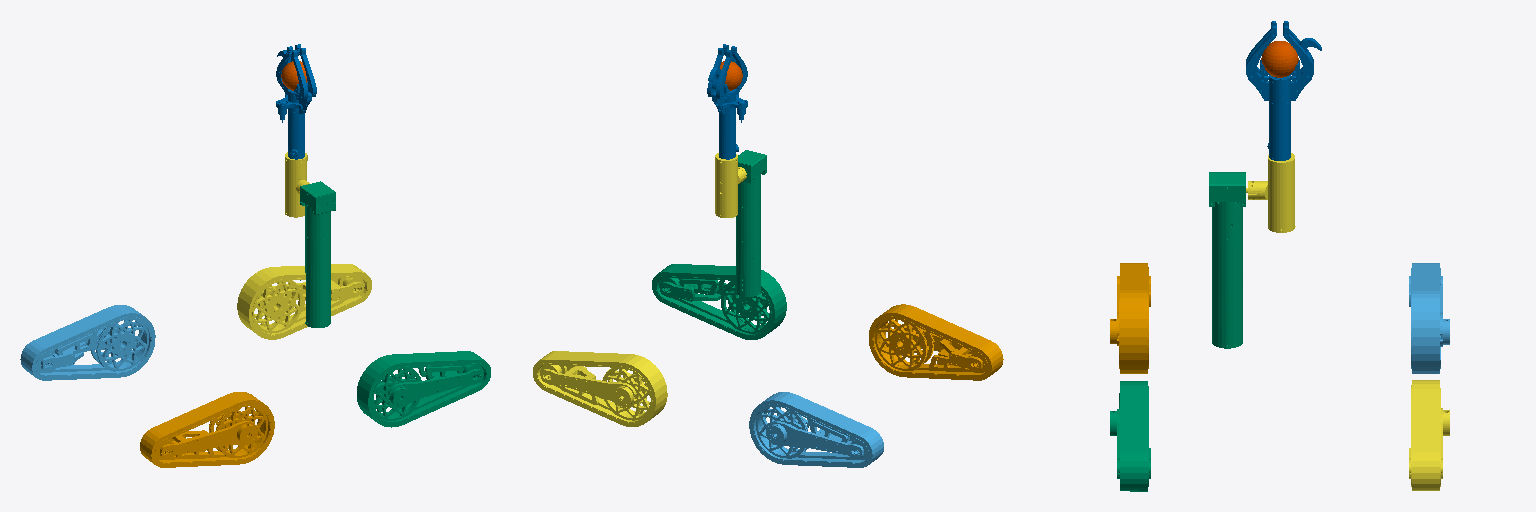
--- What the picture shows (computed from the rendered views, not written in the file) ---
Views: 3 orthographic renders of the robot side by side, from view 1: azimuth 30°, elevation 25°; view 2: azimuth 150°, elevation 25°; view 3: azimuth 270°, elevation 25°.
Model jaguar with 18 links and 17 joints (6 revolute, 11 fixed), rooted at base_link, posed all joints at 0.
Visible links, largest first — view 1: right_front_arm, right_rear_arm, left_rear_arm, left_front_arm, arm_1, arm_3, arm_2; view 2: right_rear_arm, left_rear_arm, left_front_arm, right_front_arm, arm_1, arm_3, arm_2; view 3: arm_1, arm_3, left_rear_arm, left_front_arm, right_rear_arm, right_front_arm, arm_2, ball.
Boxes of the visible links, x1=… form: right_front_arm: x1=357, y1=351, x2=490, y2=427; right_rear_arm: x1=140, y1=392, x2=274, y2=467; left_rear_arm: x1=20, y1=305, x2=155, y2=380; left_front_arm: x1=237, y1=264, x2=371, y2=339; arm_1: x1=300, y1=181, x2=335, y2=327; arm_3: x1=276, y1=44, x2=316, y2=159; arm_2: x1=285, y1=152, x2=309, y2=217; right_rear_arm: x1=869, y1=304, x2=1003, y2=380; left_rear_arm: x1=749, y1=392, x2=883, y2=467; left_front_arm: x1=533, y1=351, x2=667, y2=426; right_front_arm: x1=652, y1=264, x2=786, y2=339; arm_1: x1=736, y1=150, x2=766, y2=296; arm_3: x1=707, y1=44, x2=747, y2=159; arm_2: x1=715, y1=153, x2=746, y2=217; arm_1: x1=1209, y1=172, x2=1245, y2=348; arm_3: x1=1246, y1=21, x2=1321, y2=160; left_rear_arm: x1=1409, y1=263, x2=1449, y2=373; left_front_arm: x1=1409, y1=380, x2=1449, y2=490; right_rear_arm: x1=1110, y1=263, x2=1150, y2=373; right_front_arm: x1=1110, y1=381, x2=1150, y2=491; arm_2: x1=1246, y1=153, x2=1295, y2=232; ball: x1=1261, y1=41, x2=1298, y2=77.
Bounding box of the posed robot: 1.03 × 0.7298 × 0.9843 m (x, y, z).
7 mesh visuals loaded from 6 distinct referenced files (4 Collada DAE); not drawn: 2 (reference not matched to a file when rendering).

The robot description file, URDF, robot "jaguar":
<?xml version="1.0" ?>
<robot name="jaguar">
  <joint name="left_track_j" type="fixed">
    <parent link="base_link"/>
    <child link="left_track"/>
    <origin rpy="0      0     0" xyz="0    0.245  0.1"/>
    <axis xyz="0  0  0"/>
    <limit effort="0" lower="0" upper="0" velocity="0"/>
  </joint>

  <link name="centroid"/>
  <joint name="centroid_j" type="fixed">
    <parent link="base_link"/>
    <child link="centroid"/>
    <origin rpy="0      0     0" xyz="0    0.0  0.09"/>
    <axis xyz="0  0  0"/>
    <limit effort="0" lower="0" upper="0" velocity="0"/>
  </joint>

  <joint name="right_track_j" type="fixed">
    <parent link="base_link"/>
    <child link="right_track"/>
    <origin rpy="0      0     0" xyz="0  -0.245     0.1"/>
    <axis xyz="0  0  0"/>
    <limit effort="0" lower="0" upper="0" velocity="0"/>
  </joint>
  <joint name="right_rear_track_j" type="revolute">
    <parent link="base_link"/>
    <child link="right_rear_arm"/>
    <origin rpy="0  0  1.5708" xyz="-0.23  -0.315    0.1"/>
    <axis xyz="1  0  0"/>
    <limit effort="-1" lower="-1e+16" upper="+1e+16" velocity="1"/>
    <dynamics damping=".5"/>
  </joint>
  <joint name="left_rear_track_j" type="revolute">
    <parent link="base_link"/>
    <child link="left_rear_arm"/>
    <origin rpy="0  0  1.5708" xyz="-0.23   0.315  0.1"/>
    <axis xyz="1  0  0"/>
    <limit effort="-1" lower="-1e+16" upper="+1e+16" velocity="1"/>
    <dynamics damping=".5"/>
  </joint>
  <joint name="right_front_track_j" type="revolute">
    <parent link="base_link"/>
    <child link="right_front_arm"/>
    <origin rpy="0  0  1.5708" xyz="0.23  -0.315   0.1"/>
    <axis xyz="1  0  0"/>
    <limit effort="-1" lower="-1e+16" upper="+1e+16" velocity="1"/>
    <dynamics damping=".5"/>
  </joint>
  <joint name="left_front_track_j" type="revolute">
    <parent link="base_link"/>
    <child link="left_front_arm"/>
    <origin rpy="0  0  1.5708" xyz="0.23  0.315  0.1"/>
    <axis xyz="1  0  0"/>
    <limit effort="-1" lower="-1e+16" upper="+1e+16" velocity="1"/>
    <dynamics damping=".5"/>
  </joint>
 <!--  <joint name="velodyne_j" type="fixed">
    <parent link="base"/>
    <child link="top"/>
    <origin rpy="0  0  0" xyz="0 0 0.029335"/>
    <axis xyz="0  0  0"/>
    <limit effort="-1" lower="-1e+16" upper="+1e+16" velocity="1"/>
    <dynamics damping=".5"/>
  </joint>
  <joint name='velodyne_base_j' type='fixed'>
    <parent link="base_link"/>
    <child link="base"/>
    <origin rpy="0      0     0" xyz="0  0  0.5"/>
    <axis xyz="0  0  0"/>
    <limit effort="0" lower="0" upper="0" velocity="0"/>
  </joint>-->
  <joint name="imu_joint" type="fixed">
    <axis xyz="1 0 0"/>
    <origin xyz="0 0 0.19"/>
    <parent link="base_link"/>
    <child link="imu_link"/>
  </joint>
  <link name="base_link">
    <inertial>
      <mass value="10.14"/>
      <origin rpy="1.5708  0      0" xyz="0  0  0.1"/>
      <inertia ixx="0.13068" ixy="0" ixz="0" iyy="0.4184" iyz="0" izz="0.3196"/>
      <!--<inertia ixx="0.17136" ixy="0" ixz="0" iyy="0.544105" iyz="0" izz="0.415662"/>-->
    </inertial>
    <collision name="base_link_collision">
      <origin rpy="0      0     0" xyz="0   0   0.1"/>
      <geometry>
        <box size="0.55 0.37 0.135"/>
      </geometry>
    </collision>

    <visual name="base_link_visual">
      <origin rpy="0      3.14     0" xyz="0   0.005   0.14"/>
      <geometry>
	<mesh filename="package://simulation/models/meshes/jaguar/base.dae" scale="0.021 0.021 0.021"/>
      </geometry>
    </visual>
  </link>
  <!-- Arm -->
  <gazebo>
    <plugin filename="libgazebo_ros_control.so" name="gazebo_ros_control">
      <legacyModeNS>True</legacyModeNS>
      <robotNamespace>/jaguar</robotNamespace>
    </plugin>
  </gazebo>

<!--<link name="box">
    <inertial>
      <origin rpy="0 0 0" xyz="0  0  0"/>
      <mass value="7.0"/>
      <inertia ixx="0.03886458333333334" ixy="0" ixz="0" iyy="0.019745833333333337" iyz="0" izz="0.03734791666666667"/>
    </inertial>
    <collision name="box_collision">
      <origin rpy="0 0 0" xyz="0  0  0"/>
      <geometry>
        <box size="0.125 0.22 0.135"/>
      </geometry>
    </collision>
    <visual name="box_visual">
      <origin rpy="0 0 0" xyz="0  0  0"/>
      <geometry>
        <box size="0.125 0.22 0.135"/>
      </geometry>
    </visual>
</link>
<joint name="box_hinge" type="fixed">
    <origin xyz="0.12 0.07 0.23" />
    <parent link="base_link"/>
    <child link="box"/>
    <axis xyz="0  0  0"/>
    <limit effort="0" lower="0" upper="0" velocity="0"/>
</joint>-->
<!---->
  <link name="arm_1">
    <inertial>
      <origin rpy="0 0 0" xyz="0  0  0.17"/>
      <mass value="1.0"/>
      <inertia ixx="0.009789583333333334" ixy="0" ixz="0" iyy="0.009789583333333334" iyz="0" izz="0.0003125"/>
    </inertial>
    <collision name="arm_1_collision">
      <origin rpy="0 0 0" xyz="0  -0.025  0.17"/>
      <geometry>
        <cylinder length="0.34" radius="0.025"/>
      </geometry>
    </collision>
    <visual name="arm_1_visual">
      <origin rpy="0 -1.57 0" xyz="0  0  0.0"/>
      <geometry>
        <mesh filename="package://simulation/models/meshes/jaguar/arm1.dae" scale="0.021 0.021 0.021"/>
      </geometry>
    </visual>
  </link>

 <joint name="arm_1_hinge" type="revolute">
    <!-- case of the box <origin rpy="0 -1.0 0" xyz="0.01 -0.145 0.04"/>  -1.25-->
    <origin rpy="0 0 0" xyz="0.123 -0.08 0.27"/>
    <parent link="base_link"/>
    <child link="arm_1"/>
    <axis xyz="0  1  0"/>
    <limit effort="10000" lower="-1.3" upper="1.3" velocity="0.05"/>
    <dynamics damping=".5" friction=".5"/>
 </joint>

   <transmission name="arm_1">
    <type>transmission_interface/SimpleTransmission</type>
    <actuator name="arm_1_motor">
      <hardwareInterface>EffortJointInterface</hardwareInterface>
      <mechanicalReduction>1</mechanicalReduction>
    </actuator>
    <joint name="arm_1_hinge">
      <hardwareInterface>EffortJointInterface</hardwareInterface>
    </joint>
  </transmission>

<link name="arm_2">
    <inertial>
      <origin rpy="0 0 0" xyz="0  0  0.075"/>
      <mass value="0.5"/>
      <inertia ixx="0.001015625" ixy="0" ixz="0" iyy="0.001015625" iyz="0" izz="0.00015625"/>
    </inertial>
    <collision name="arm_2_collision">
      <origin rpy="0 0 0" xyz="0  0.025  0"/>
      <geometry>
        <cylinder length="0.15" radius="0.025"/>
      </geometry>
    </collision>
    <visual name="arm_2_visual">
      <origin rpy="0 -1.57 0" xyz="0  -0.025  0.0"/>
      <geometry>
        <mesh filename="package://simulation/models/meshes/jaguar/arm2.dae" scale="0.021 0.021 0.021"/>
      </geometry>
    </visual>
  </link>

<joint name="arm_2_hinge" type="revolute">
    <origin xyz="0 0.055 0.33" rpy="0.0 0 0"/>
    <parent link="arm_1"/>
    <child link="arm_2"/>
    <axis xyz="0  1  0"/>
    <dynamics damping=" 0.2" friction="0"/>
    <!-- <limit effort="10000" velocity="0.001" lower="-2.82" upper="0" /> -->
    <limit effort="10000" velocity="0.05" lower="-2.9" upper="2.9" />
 </joint>

   <transmission name="arm_2">
    <type>transmission_interface/SimpleTransmission</type>
    <actuator name="arm_2_motor">
      <hardwareInterface>EffortJointInterface</hardwareInterface>
      <mechanicalReduction>1</mechanicalReduction>
    </actuator>
    <joint name="arm_2_hinge">
      <hardwareInterface>EffortJointInterface</hardwareInterface>
    </joint>
  </transmission><!---->

<link name="arm_3">
    <inertial>
      <origin rpy="0 0 0" xyz="0  0  0.075"/>
      <mass value="0.5"/>
      <inertia ixx="0.001015625" ixy="0" ixz="0" iyy="0.001015625" iyz="0" izz="0.00015625"/>
    </inertial>
    <collision name="arm_3_collision">
      <origin rpy="0 0 0" xyz="0  0  0"/>
      <geometry>
        <cylinder length="0.15" radius="0.025"/>
      </geometry>
    </collision>
    <visual name="arm_3_visual">
      <origin rpy="0 -1.57 0" xyz="0  0  0.0"/>
      <geometry>
        <mesh filename="package://simulation/models/meshes/jaguar/arm3.dae" scale="0.021 0.021 0.021"/>
      </geometry>
    </visual>

  </link>

<joint name="arm_3_hinge" type="fixed">
    <origin xyz="0 0.025 0.075" rpy="0.0 3.14 0"/>
    <parent link="arm_2"/>
    <child link="arm_3"/>
    <axis xyz="0  1  0"/>
    <dynamics damping=" 0.2" friction="0"/>


 </joint> <!---->



 <link name="ball">
    <inertial>
      <mass value="2.0"/>
      <inertia ixx="0.0045" ixy="0" ixz="0" iyy="0.0045" iyz="0" izz="0.0045"/>
    </inertial>
    <visual name="arm_2_visual">
      <geometry>
        <sphere radius="0.04"/>
      </geometry>
    </visual>
  </link>

<joint name="ball_hinge" type="fixed">
    <origin xyz="0 0.0 -0.235" rpy="0.0 0 0"/>
    <parent link="arm_3"/>
    <child link="ball"/>
    <axis xyz="0  0  0"/>
 </joint>

<!--   Arm - end -->
  <link name="left_track">
    <inertial>
      <mass value="3.03"/>
      <origin rpy="0  0  0" xyz="0  0  0"/>
      <inertia ixx="0.000909" ixy="0" ixz="0" iyy="0.016277" iyz="0" izz="0.0156955"/>
    </inertial>
    <collision name="left_track_collision">
      <origin rpy="1.5708  0      1.5708" xyz="0  0  0"/>
      <geometry>
        <box size="0.06 0.180 0.46"/>
      </geometry>
    </collision>
    <collision name="left_track_collision_1">
      <origin rpy="1.5708  0      0" xyz="0.23  0    0"/>
      <geometry>
        <cylinder length="0.06" radius="0.09"/>
      </geometry>
    </collision>
    <collision name="left_track_collision_2">
      <origin rpy="1.5708  0      0" xyz="-0.23  0    0"/>
      <geometry>
        <cylinder length="0.06" radius="0.09"/>
      </geometry>
    </collision>

  </link>
  <link name="right_track">
    <inertial>
      <mass value="3.03"/>
      <origin rpy="0  0  0" xyz="0  0  0"/>
      <inertia ixx="0.000909" ixy="0" ixz="0" iyy="0.016277" iyz="0" izz="0.0156955"/>
    </inertial>
    <collision name="right_track_collision">
      <origin rpy="1.5708  0      1.5708" xyz="0  0  0"/>
      <geometry>
        <box size="0.06 0.180 0.46"/>
      </geometry>
    </collision>
    <collision name="right_track_collision_1">
      <origin rpy="1.5708  0      0" xyz="0.23  0    0"/>
      <geometry>
        <cylinder length="0.06" radius="0.09"/>
      </geometry>
    </collision>
    <collision name="right_track_collision_2">
      <origin rpy="1.5708  0      0" xyz="-0.23  0    0"/>
      <geometry>
        <cylinder length="0.06" radius="0.09"/>
      </geometry>
    </collision>
  </link>

  <link name="right_rear_arm">
    <inertial>
      <mass value="0.5"/>
      <origin rpy="1.57079  0    1.57079" xyz="0  0     0"/>
      <inertia ixx="0.000340625" ixy="0" ixz="0" iyy="0.001981265" iyz="0" izz="0.002265625"/>
    </inertial>
    <collision name="collision_right_rear_arm_wheel_1">
      <origin rpy="3.14159 -1.57079  3.14159" xyz="0     0     0.001"/>
      <geometry>
        <cylinder length=".06" radius=".09"/>
      </geometry>
    </collision>
    <collision name="collision_right_rear_arm_wheel_2">
      <origin rpy="3.14159 -1.57079  3.14159" xyz="0     0.23   0.001"/>
      <geometry>
        <cylinder length=".06" radius=".035"/>
      </geometry>
    </collision>
    <collision name="right_rear_track_collision">
      <origin rpy="-1.3293  0      0" xyz="0       0.12157 -0.0257"/>
      <geometry>
        <box size="0.06 0.07 0.2233"/>
      </geometry>
    </collision>
    <collision name="right_rear_track_collision_2">
      <origin rpy="1.3293  0      0" xyz="0       0.12157  0.0277"/>
      <geometry>
        <box size="0.06 0.07 0.23"/>
      </geometry>
    </collision>
    <visual name="right_rear_arm_visual">
      <origin rpy="0  0   1.57" xyz="0  0.04    0"/>
      <geometry>
<mesh filename="package://simulation/models/meshes/jaguar/flipper.dae" scale="0.021 0.021 0.021"/>
      </geometry>
    </visual>
    <!-- <visual name="visual">
      <origin rpy="0  0  0" xyz="0     0.115  0.001"/>
      <geometry>
        <box size=".002 .23 .05"/>
      </geometry>
    </visual>
    <visual name="visual_right_rear_arm_wheel_1">
      <origin rpy="3.14159 -1.57079  3.14159" xyz="0     0     0.001"/>
      <geometry>
        <cylinder length=".06" radius=".09"/>
      </geometry>
    </visual>
    <visual name="visual_right_rear_arm_wheel_2">
      <origin rpy="3.14159 -1.57079  3.14159" xyz="0     0.23   0.001"/>
      <geometry>
        <cylinder length=".06" radius=".035"/>
      </geometry>
    </visual>
    <visual name="right_rear_track_visual">
      <origin rpy="1.3293  0      0" xyz="0       0.12157  0.0277"/>
      <geometry>
        <box size="0.06 0.07 0.2233"/>
      </geometry>
    </visual>
    <visual name="right_rear_track_visual_2">
      <origin rpy="-1.3293  0      0" xyz="0       0.12157 -0.0257"/>
      <geometry>
        <box size="0.06 0.07 0.23"/>
      </geometry>
    </visual> -->
  </link>

  <link name="left_rear_arm">
    <inertial>
      <mass value="0.5"/>
      <origin rpy="1.57079  0    1.57079" xyz="0  0     0"/>
      <inertia ixx="0.000340625" ixy="0" ixz="0" iyy="0.001981265" iyz="0" izz="0.002265625"/>
    </inertial>
    <collision name="collision_left_rear_arm_wheel_1">
      <origin rpy="3.14159 -1.57079  3.14159" xyz="0     0     0.001"/>
      <geometry>
        <cylinder length=".06" radius=".09"/>
      </geometry>
    </collision>
    <collision name="collision_left_rear_arm_wheel_2">
      <origin rpy="3.14159 -1.57079  3.14159" xyz="0     0.23   0.001"/>
      <geometry>
        <cylinder length=".06" radius=".035"/>
      </geometry>
    </collision>
    <collision name="left_rear_track_collision">
      <origin rpy="-1.3293  0      0" xyz="0       0.12157 -0.0257"/>
      <geometry>
        <box size="0.06 0.07 0.2233"/>
      </geometry>
    </collision>
    <collision name="left_rear_track_collision_2">
      <origin rpy="1.3293  0      0" xyz="0       0.12157  0.0277"/>
      <geometry>
        <box size="0.06 0.07 0.23"/>
      </geometry>
    </collision>
    <!--<visual name="visual">
      <origin rpy="0  0  0" xyz="0     0.115  0.001"/>
      <geometry>
        <box size=".002 .23 .05"/>
      </geometry>
    </visual>
    <visual name="visual_left_rear_arm_wheel_1">
      <origin rpy="3.14159 -1.57079  3.14159" xyz="0     0     0.001"/>
      <geometry>
        <cylinder length=".06" radius=".09"/>
      </geometry>
    </visual>
    <visual name="visual_left_rear_arm_wheel_2">
      <origin rpy="3.14159 -1.57079  3.14159" xyz="0     0.23   0.001"/>
      <geometry>
        <cylinder length=".06" radius=".035"/>
      </geometry>
    </visual>
    <visual name="left_rear_track_visual">
      <origin rpy="1.3293  0      0" xyz="0       0.12157  0.0277"/>
      <geometry>
        <box size="0.06 0.07 0.2233"/>
      </geometry>
    </visual>
    <visual name="left_rear_track_visual_2">
      <origin rpy="-1.3293  0      0" xyz="0       0.12157 -0.0257"/>
      <geometry>
        <box size="0.06 0.07 0.23"/>
      </geometry>
    </visual>-->
    <visual name="left_rear_arm_visual">
      <origin rpy="3.14  0   1.57" xyz="0  0.04    0"/>
      <geometry>
<mesh filename="package://simulation/models/meshes/jaguar/flipper.dae" scale="0.021 0.021 0.021"/>
      </geometry>
    </visual>
  </link>
  <link name="right_front_arm">
    <inertial>
      <mass value="0.5"/>
      <origin rpy="1.57  0    1.57" xyz="0  0     0"/>
      <inertia ixx="0.000340625" ixy="0" ixz="0" iyy="0.001981265" iyz="0" izz="0.002265625"/>
    </inertial>
    <collision name="collision_right_front_arm_wheel_1">
      <origin rpy="3.14159 -1.57079  3.14159" xyz="0     0     0.001"/>
      <geometry>
        <cylinder length=".06" radius=".09"/>
      </geometry>
    </collision>
    <collision name="collision_right_front_arm_wheel_2">
      <origin rpy="3.14159 -1.57079  3.14159" xyz="0    -0.23   0.001"/>
      <geometry>
        <cylinder length=".06" radius=".035"/>
      </geometry>
    </collision>
    <collision name="right_front_track_collision">
      <origin rpy="-1.3293  0      0" xyz="0      -0.12157  0.0277"/>
      <geometry>
        <box size="0.06 0.07 0.2233"/>
      </geometry>
    </collision>
    <collision name="right_front_track_collision_2">
      <origin rpy="1.3293  0      0" xyz="0      -0.12157 -0.0257"/>
      <geometry>
        <box size="0.06 0.07 0.23"/>
      </geometry>
    </collision>
    <!-- <visual name="visual">
      <origin rpy="0  0  0" xyz="0    -0.115  0.001"/>
      <geometry>
        <box size=".002 .23 .05"/>
      </geometry>
    </visual>
    <visual name="visual_right_front_arm_wheel_1">
      <origin rpy="3.14159 -1.57079  3.14159" xyz="0     0     0.001"/>
      <geometry>
        <cylinder length=".06" radius=".09"/>
      </geometry>
    </visual>
    <visual name="visual_right_front_arm_wheel_2">
      <origin rpy="3.14159 -1.57079  3.14159" xyz="0    -0.23   0.001"/>
      <geometry>
        <cylinder length=".06" radius=".035"/>
      </geometry>
    </visual>
    <visual name="right_front_track_visual">
      <origin rpy="-1.3293  0      0" xyz="0      -0.12157  0.0277"/>
      <geometry>
        <box size="0.06 0.07 0.2233"/>
      </geometry>
    </visual>
    <visual name="right_front_track_visual_2">
      <origin rpy="1.3293  0      0" xyz="0      -0.12157 -0.0257"/>
      <geometry>
        <box size="0.06 0.07 0.23"/>
      </geometry>
    </visual> -->
    <visual name="right_front_arm_visual">
      <origin rpy="3.14  0   -1.57" xyz="0  -0.04    0"/>
      <geometry>
<mesh filename="package://simulation/models/meshes/jaguar/flipper.dae" scale="0.021 0.021 0.021"/>
      </geometry>
    </visual>
  </link>
  <link name="left_front_arm">
    <inertial>
      <mass value="0.5"/>
      <origin rpy="1.57  0    1.57" xyz="0  0     0"/>
      <inertia ixx="0.000340625" ixy="0" ixz="0" iyy="0.001981265" iyz="0" izz="0.002265625"/>
    </inertial>
    <collision name="collision_left_front_arm_wheel_1">
      <origin rpy="3.14159 -1.57079  3.14159" xyz="0     0     0.001"/>
      <geometry>
        <cylinder length=".06" radius=".09"/>
      </geometry>
    </collision>
    <collision name="collision_left_front_arm_wheel_2">
      <origin rpy="3.14159 -1.57079  3.14159" xyz="0    -0.23   0.001"/>
      <geometry>
        <cylinder length=".06" radius=".035"/>
      </geometry>
    </collision>
    <collision name="left_front_track_collision">
      <origin rpy="-1.3293  0      0" xyz="0      -0.12157  0.0277"/>
      <geometry>
        <box size="0.06 0.07 0.2233"/>
      </geometry>
    </collision>
    <collision name="left_front_track_collision_2">
      <origin rpy="1.3293  0      0" xyz="0      -0.12157 -0.0257"/>
      <geometry>
        <box size="0.06 0.07 0.23"/>
      </geometry>
    </collision>
    <!--<visual name="visual">
      <origin rpy="0  0  0" xyz="0    -0.115  0.001"/>
      <geometry>
        <box size=".002 .23 .05"/>
      </geometry>
    </visual>
    <visual name="visual_left_front_arm_wheel_1">
      <origin rpy="3.14159 -1.57079  3.14159" xyz="0     0     0.001"/>
      <geometry>
        <cylinder length=".06" radius=".09"/>
      </geometry>
    </visual>
    <visual name="visual_left_front_arm_wheel_2">
      <origin rpy="3.14159 -1.57079  3.14159" xyz="0    -0.23   0.001"/>
      <geometry>
        <cylinder length=".06" radius=".035"/>
      </geometry>
    </visual>
    <visual name="left_front_track_visual">
      <origin rpy="-1.3293  0      0" xyz="0      -0.12157  0.0277"/>
      <geometry>
        <box size="0.06 0.07 0.2233"/>
      </geometry>
    </visual>
    <visual name="left_front_track_visual_2">
      <origin rpy="1.3293  0      0" xyz="0      -0.12157 -0.0257"/>
      <geometry>
        <box size="0.06 0.07 0.23"/>
      </geometry>
    </visual> -->

    <visual name="left_front_arm_visual">
      <origin rpy="0  0   -1.57" xyz="0  -0.04    0"/>
      <geometry>
<mesh filename="package://simulation/models/meshes/jaguar/flipper.dae" scale="0.021 0.021 0.021"/>
      </geometry>
    </visual>

  </link>
<!--  <link name="base">
    <inertial>
      <mass value="1.2"/>
      <origin xyz="0 0 0" rpy="0 0 0"/>
      <inertia ixx="0.001087473" iyy="0.001087473" izz="0.001092437" ixy="0" ixz="0" iyz="0" />
    </inertial>
  </link>
  <link name="top">
    <inertial>
      <mass value="0.1"/>
      <origin xyz="0 0 0.036785" rpy="0 0 0"/>
      <inertia ixx="0.000090623" iyy="0.000090623" izz="0.000091036" ixy="0" ixz="0" iyz="0" />
    </inertial>
  </link>-->
  <link name="imu_link">
    <inertial>
      <mass value="0.001"/>
      <origin rpy="0 0 0" xyz="0 0 0"/>
      <inertia ixx="0.0001" ixy="0" ixz="0" iyy="0.000001" iyz="0" izz="0.0001"/>
    </inertial>
    <visual>
      <origin rpy="0 0 0" xyz="0 0 0"/>
      <geometry>
        <box size="0.001 0.001 0.001"/>
      </geometry>
    </visual>
    <collision>
      <origin rpy="0 0 0" xyz="0 0 0"/>
      <geometry>
        <box size=".001 .001 .001"/>
      </geometry>
    </collision>
  </link>

    <gazebo>
        <plugin name="gazebo_ros_imu_controller" filename="libgazebo_ros_imu.so">
          <robotNamespace></robotNamespace>
          <topicName>imu</topicName>
          <serviceName>imu/service</serviceName>
          <bodyName>base_link</bodyName>
          <gaussianNoise>0</gaussianNoise>
          <rpyOffsets>0 0 0</rpyOffsets>
          <updateRate>20.0</updateRate>
          <alwaysOn>true</alwaysOn>
          <gaussianNoise>0</gaussianNoise>
        </plugin>
    </gazebo>

  <!-- <gazebo reference="imu_link">
    <gravity>true</gravity>
    <sensor name="imu_sensor" type="imu">
      <always_on>true</always_on>
      <update_rate>10</update_rate>
      <visualize>true</visualize>
      <topic>__default_topic__</topic>
      <plugin filename="libgazebo_ros_imu_sensor.so" name="imu_plugin">
        <topicName>imu</topicName>
        <bodyName>imu_link</bodyName>
        <updateRateHZ>10.0</updateRateHZ>
        <gaussianNoise>0.0</gaussianNoise>
        <xyzOffset>0 0 0</xyzOffset>
        <rpyOffset>0 0 0</rpyOffset>
        <frameName>imu_link</frameName>
      </plugin>
      <pose>0 0 0 0 0 0</pose>
    </sensor>
  </gazebo>-->

  <gazebo reference="left_track_j">
    <disableFixedJointLumping>true</disableFixedJointLumping>
  </gazebo>

  <gazebo reference="right_track_j">
    <disableFixedJointLumping>true</disableFixedJointLumping>
  </gazebo>

  <!-- <gazebo reference="velodyne_base_j">
    <disableFixedJointLumping>true</disableFixedJointLumping>
  </gazebo> -->

  <gazebo reference="imu_joint">
    <disableFixedJointLumping>true</disableFixedJointLumping>
  </gazebo>
  <gazebo>
            <!-- <plugin name="jaguar_plugin" filename="
            [local-path]/dev/catkin_ws/src/jaguar_ws/plugins/flipper_control/build/libjaguar_plugin.so"> -->
            <plugin name="jaguar_plugin" filename="/usr/lib/libjaguar_plugin.so">
            <velocity>0</velocity>
            <flipperTopicName>/cmd_flipper</flipperTopicName>
            <right_front_joint>right_front_track_j</right_front_joint>
            <left_front_joint>left_front_track_j</left_front_joint>
            <right_rear_joint>right_rear_track_j</right_rear_joint>
            <left_rear_joint>left_rear_track_j</left_rear_joint>
            <updateRate>0.0</updateRate>>
        </plugin>
  </gazebo>

  <gazebo>
          <plugin filename="libSimpleTrackedVehiclePlugin.so"
            name="simple_tracked_vehicle">
                <body>base_link</body>
                <cmdVelTopicName>/cmd_vel</cmdVelTopicName>
                <left_track>left_track</left_track>
                <right_track>right_track</right_track>
                <rear_left_track>left_rear_arm</rear_left_track>
                <rear_right_track>right_rear_arm</rear_right_track>
                <front_left_track>left_front_arm</front_left_track>
                <front_right_track>right_front_arm</front_right_track>
                <track_mu>1</track_mu>
                <track_mu2>0.5</track_mu2>
                <tracks_separation>0.6</tracks_separation>
                <steering_efficiency>0.5</steering_efficiency>
        </plugin>
  </gazebo>

<!-- KINECT -->

      <link name="camera_link">
        <inertial_sphere mass="0.01" diameter="0.07" />
        <visual>
          <origin xyz="0 0 0.0" rpy="0 0 0" />
          <geometry>
            <mesh filename="package://hector_sensors_description/meshes/kinect_camera/kinect_camera_simple.dae"/>
          </geometry>
        </visual>
        <collision>

          <geometry>
            <mesh filename="package://hector_sensors_description/meshes/kinect_camera/kinect_camera_simple.stl"/>
          </geometry>
        </collision>
      </link>

      <joint name="camera_joint" type="fixed">
        <origin xyz="0.24 0 0.315" rpy="0 0.2 0"/>
        <parent link="base_link"/>
        <child link="camera_link"/>
      </joint>

      <joint name="camera_depth_joint" type="fixed">
        <origin xyz="0.0 -0.02 0.0" rpy="0 0 0" />
        <parent link="camera_link" />
        <child link="camera_depth_frame"/>
      </joint>

      <link name="camera_depth_frame"/>

      <joint name="camera_depth_optical_joint" type="fixed">
        <origin xyz="0 0 0" rpy="-1.57 0.0 -1.57" />
        <parent link="camera_depth_frame" />
        <child link="camera_depth_optical_frame"/>
      </joint>

      <link name="camera_depth_optical_frame"/>

      <joint name="camera_rgb_joint" type="fixed">
        <origin xyz="0.0 -0.0125 0.0" rpy="0 0 0" />
        <parent link="camera_link" />
        <child link="camera_rgb_frame"/>
      </joint>

      <link name="camera_rgb_frame"/>

      <joint name="camera_rgb_optical_joint" type="fixed">
        <origin xyz="0 0 0" rpy="-1.57 0.0 -1.57" />
        <parent link="camera_rgb_frame" />
        <child link="camera_rgb_optical_frame"/>
      </joint>

      <link name="camera_rgb_optical_frame"/>

      <gazebo reference="camera_depth_frame">
        <sensor type="depth" name="camera">
          <update_rate>20</update_rate>
          <camera>
            <horizontal_fov>1.05</horizontal_fov>
            <image>
              <format>R8G8B8</format>
              <width>640</width>
              <height>480</height>
            </image>
            <clip>
              <near>0.1</near>
              <far>3</far>
            </clip>
          </camera>
          <plugin name="camera_camera_controller" filename="libgazebo_ros_openni_kinect.so">
          <!--
          host:
          <plugin name="camera_camera_controller" filename="[local-path]/dev/catkin_ws/devel/lib/libgazebo_ros_openni_kinect.so">
          usual:
          <plugin name="camera_camera_controller" filename="libgazebo_ros_openni_kinect.so">
          or
          <plugin name="camera_camera_controller" filename="/opt/ros/noetic/lib/libgazebo_ros_openni_kinect.so">
          -->
            <alwaysOn>true</alwaysOn>
            <updateRate>20</updateRate>
            <imageTopicName>camera/rgb/image_raw</imageTopicName>
            <cameraInfoTopicName>camera/rgb/camera_info</cameraInfoTopicName>
            <depthImageTopicName>camera/depth/image_raw</depthImageTopicName>
            <depthImageCameraInfoTopicName>camera/depth/camera_info</depthImageCameraInfoTopicName>
            <frameName>camera_depth_optical_frame</frameName>
            <distortion_k1>0.0</distortion_k1>
            <distortion_k2>0.0</distortion_k2>
            <distortion_k3>0.0</distortion_k3>
            <distortion_t1>0.0</distortion_t1>
            <distortion_t2>0.0</distortion_t2>
          </plugin>
        </sensor>
      </gazebo>
   <!-- END Kinect -->

<!-- Marker
  <link name="marker_0">
    <inertial>
      <mass value="0.001"/>
      <inertia ixx="0.001" ixy="0" ixz="0" iyy="0.001" iyz="0" izz="0.001"/>
    </inertial>
    <collision name="marker_0">
      <geometry>
        <mesh filename="package://tracked_irl/meshes/markers/marker_0.dae" scale="0.22 0.22 0.22"/>
      </geometry>
    </collision>
    <visual name="marker_0">
      <geometry>
        <mesh filename="package://tracked_irl/meshes/markers/marker_0.dae" scale="0.22 0.22 0.22"/>
      </geometry>
    </visual>
  </link>-->

  <!--<joint name="marker_0" type="fixed">
     <origin rpy="-0.785 0.0 1.57" xyz="-0.28 0 0.28"/>
     <parent link="base_link"/>
     <child link="marker_0"/>
   </joint>-->
</robot>
